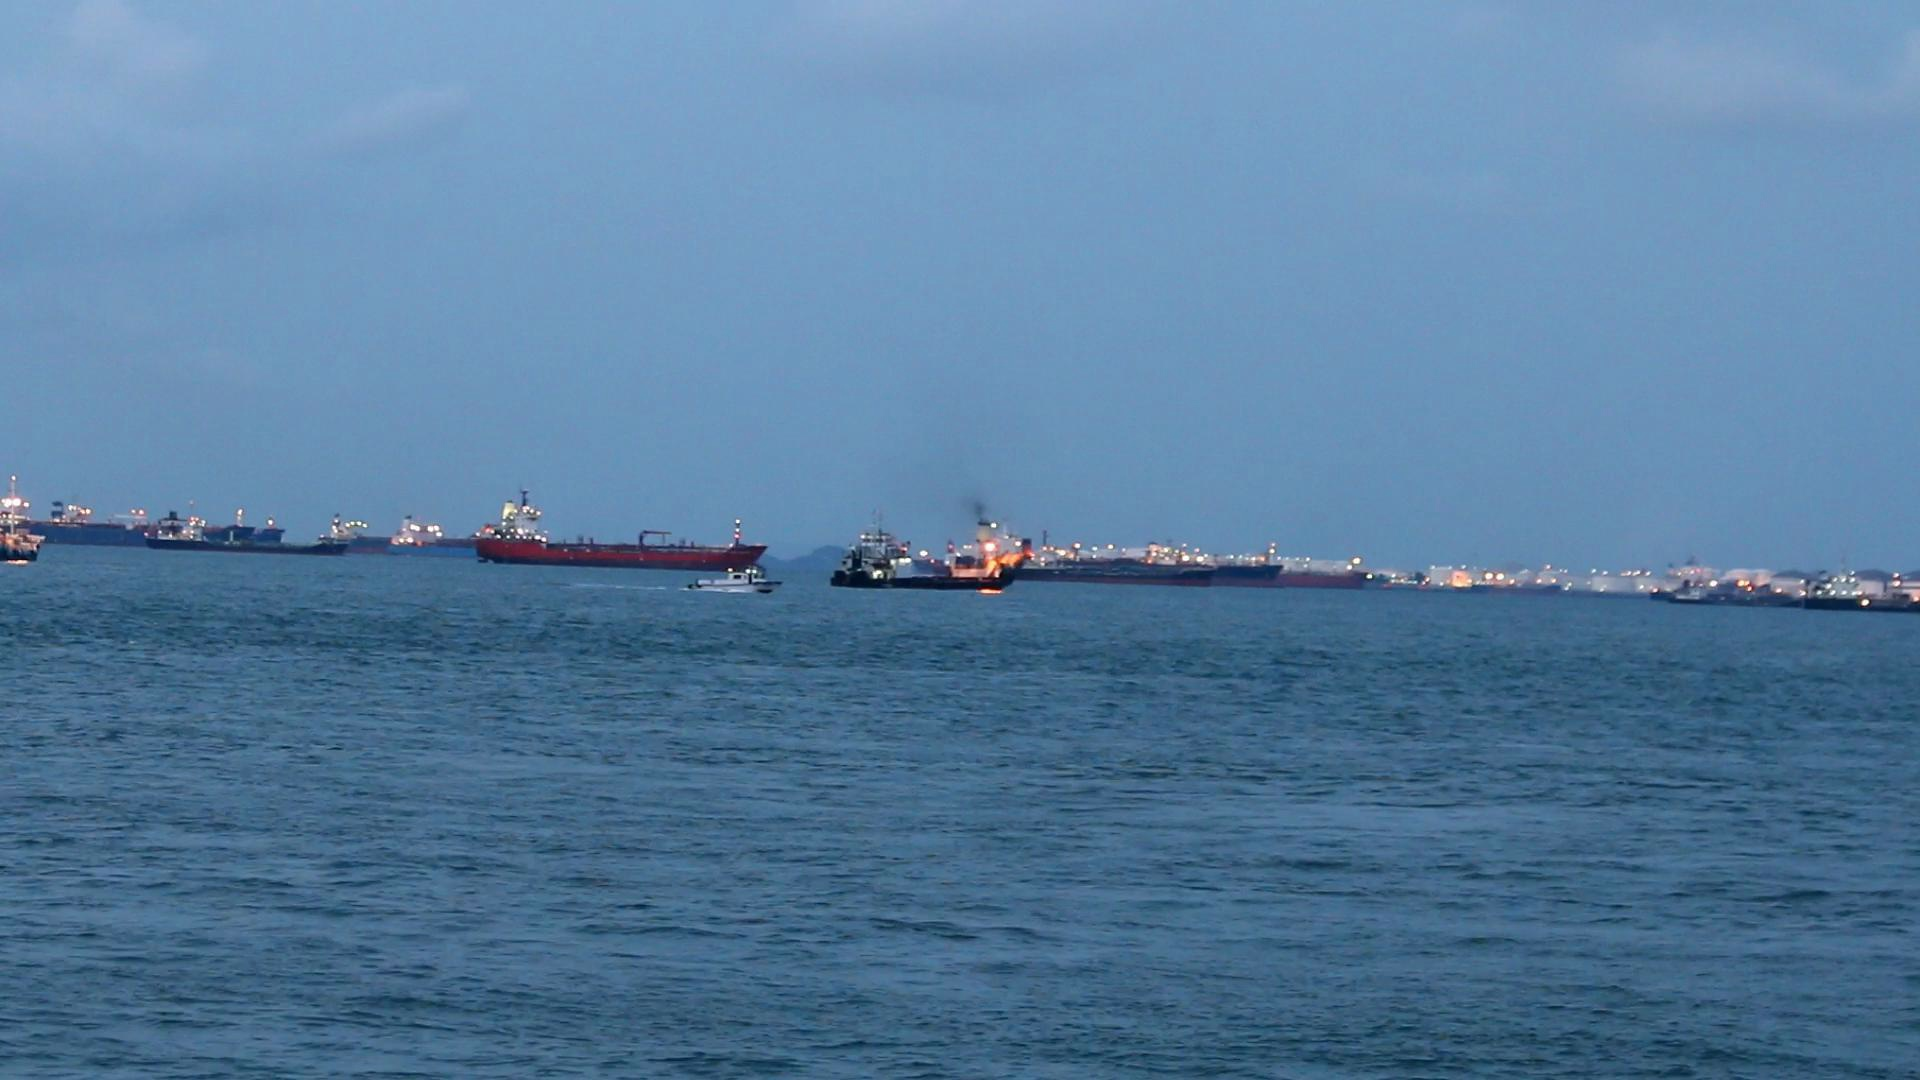Container Ship: (484, 477, 781, 570), (9, 485, 258, 545), (977, 539, 1234, 588), (154, 510, 377, 558), (332, 513, 502, 556), (1307, 530, 1398, 591), (1238, 537, 1303, 599), (1, 496, 61, 563), (1683, 582, 1816, 608), (1811, 584, 1920, 616)
